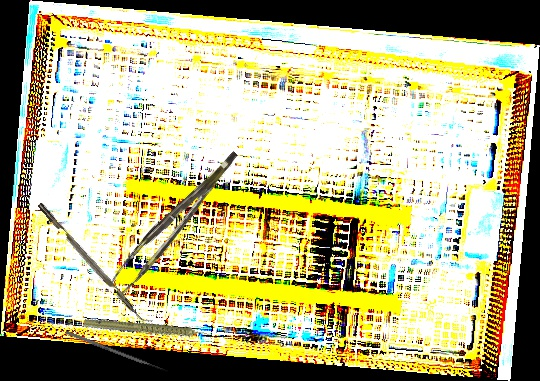Chopper: (37, 197, 154, 329)
Handpiece: (82, 292, 213, 369)
Pusher: (64, 330, 170, 374)
Tissue Forceps: (101, 151, 254, 296)
